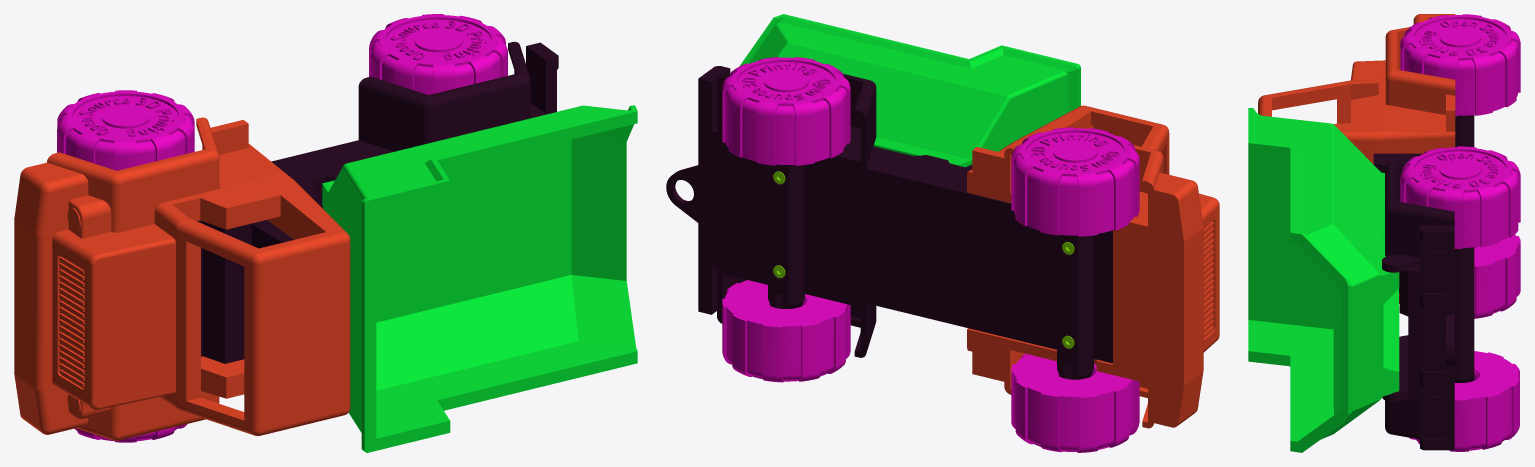
3 renders of one model, left to right at view 1: azimuth 30°, elevation 25°; view 2: azimuth 150°, elevation 25°; view 3: azimuth 270°, elevation 25°, orthographic. The views are drawn at different scales.
Visible parts, largest first — view 1: Cab <155>.001, Flak <146>.001, Base <137>.001, Wheel <677>.001, Wheel <706>.001; view 2: Base <137>.001, Cab <155>.001, Flak <146>.001, Wheel <706>.001, Wheel <677>.001, Wheel <611>.001, Wheel <504>.001, Base <420>.001, Base <460>.001; view 3: Flak <146>.001, Base <137>.001, Cab <155>.001, Wheel <677>.001, Wheel <706>.001, Wheel <611>.001, Wheel <504>.001, Base <460>.001, Base <420>.001.
Boxes of the visible parts, x1,y1,x2,y2 form: Cab <155>.001: (14, 117, 350, 440); Flak <146>.001: (322, 105, 637, 452); Base <137>.001: (197, 41, 558, 363); Wheel <677>.001: (369, 14, 507, 94); Wheel <706>.001: (57, 90, 194, 170); Base <137>.001: (666, 66, 1112, 363); Cab <155>.001: (967, 105, 1219, 428); Flak <146>.001: (739, 14, 1080, 167); Wheel <706>.001: (1011, 127, 1139, 236); Wheel <677>.001: (722, 57, 850, 165); Wheel <611>.001: (722, 280, 850, 382); Wheel <504>.001: (1011, 353, 1139, 452); Base <420>.001: (1057, 234, 1093, 379); Base <460>.001: (768, 164, 804, 308); Flak <146>.001: (1248, 108, 1399, 452); Base <137>.001: (1373, 153, 1454, 450); Cab <155>.001: (1258, 14, 1455, 303); Wheel <677>.001: (1400, 146, 1520, 248); Wheel <706>.001: (1400, 14, 1520, 116); Wheel <611>.001: (1409, 351, 1519, 451); Wheel <504>.001: (1474, 234, 1520, 318); Base <460>.001: (1454, 247, 1474, 382); Base <420>.001: (1455, 115, 1474, 147).
Bounding box in the file's own units: 242 × 124 × 117.
